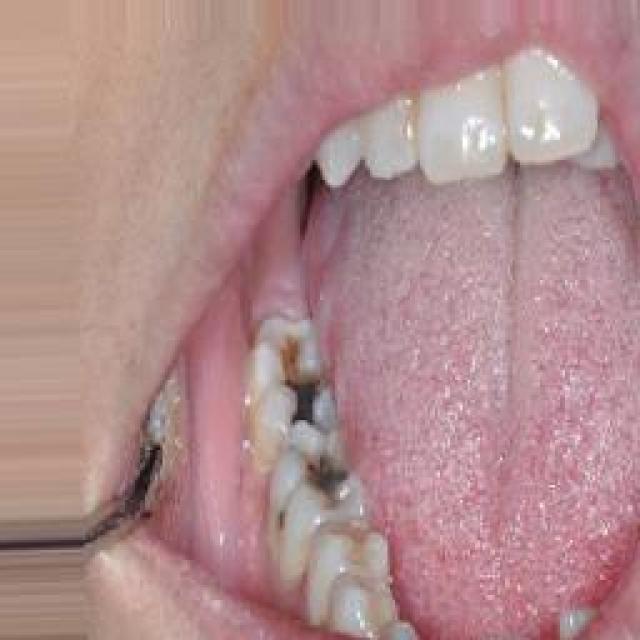caries: (275, 380, 323, 423), (305, 453, 345, 493), (275, 343, 318, 373), (340, 528, 370, 571)
